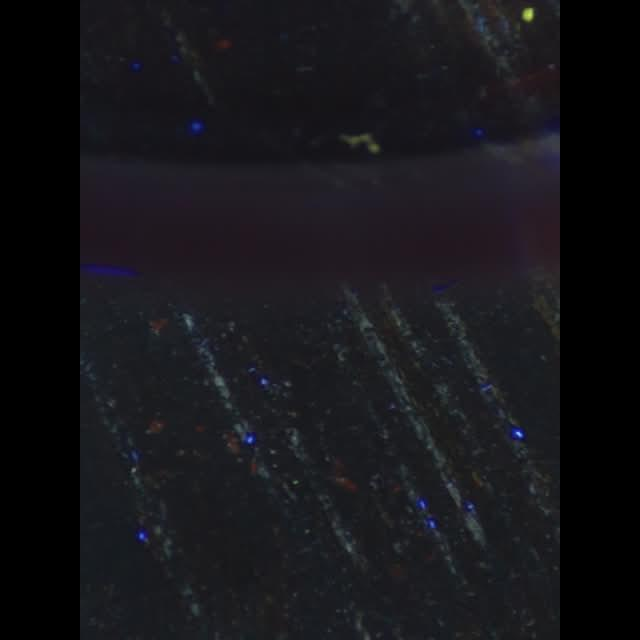Fibre: (340, 128, 382, 156)
microbeads: (520, 3, 536, 24)
